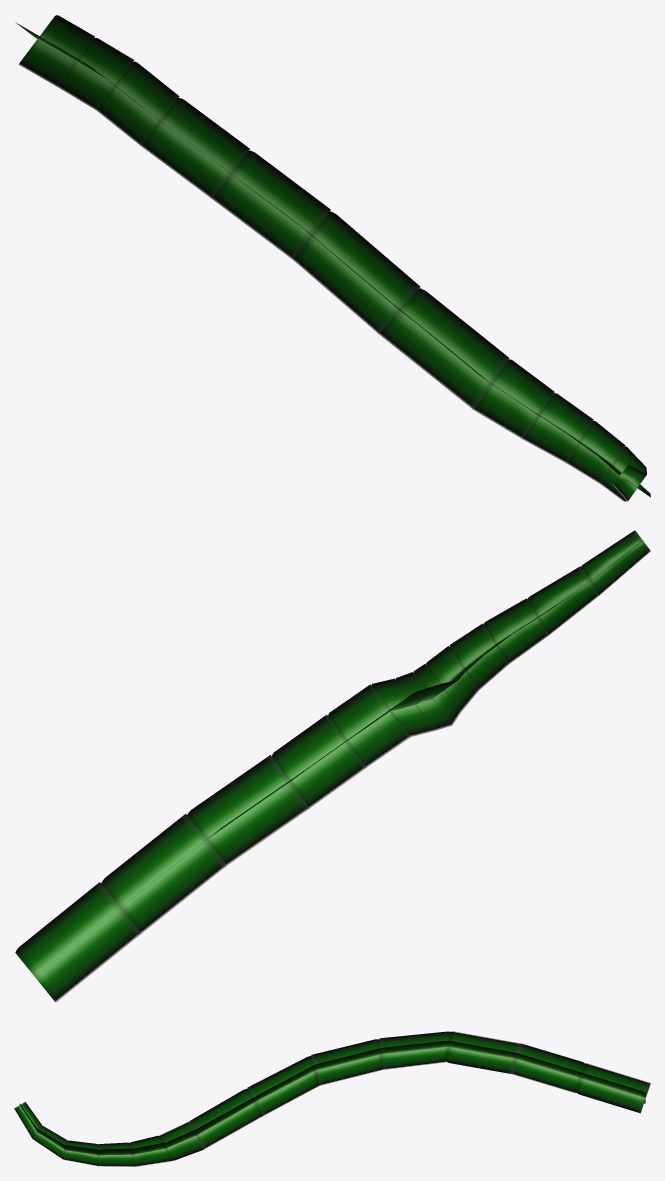
3 views of the same model, one above another, from view 1: azimuth 30°, elevation 25°; view 2: azimuth 150°, elevation 25°; view 3: azimuth 270°, elevation 25° (orthographic). The views are drawn at different scales.
Parts seen in each view (by area): view 1: T1L5M004_6; view 2: T1L5M004_6; view 3: T1L5M004_6.
Boxes of the visible parts, x1,y1,x2,y2 form: T1L5M004_6: [15, 15, 650, 501]; T1L5M004_6: [15, 530, 650, 1002]; T1L5M004_6: [14, 1031, 650, 1166].
Size of the model in its own units: 0.6001 by 0.6164 by 3.74.
